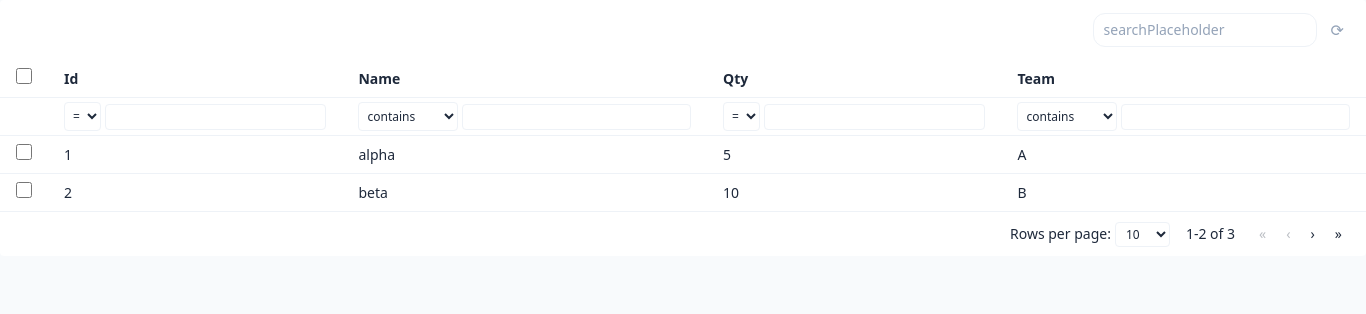
Test: Table › keeps selection and shows an alert when a custom bulk action rejects
Click the checkbox named "Select row 1". click: {"x": 24, "y": 152}
box: top-left (16, 144), bottom-right (32, 160)
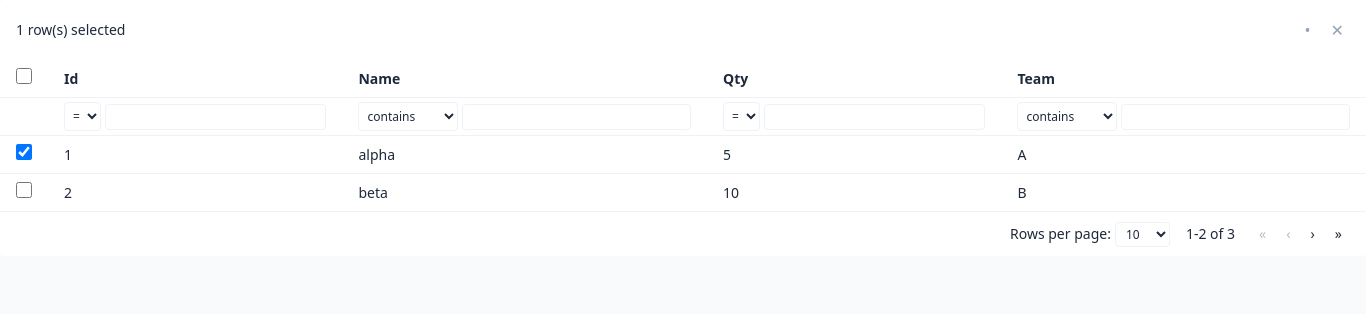
Click the button titled "custom bulk". click: {"x": 1308, "y": 30}
box: top-left (1299, 12), bottom-right (1317, 48)
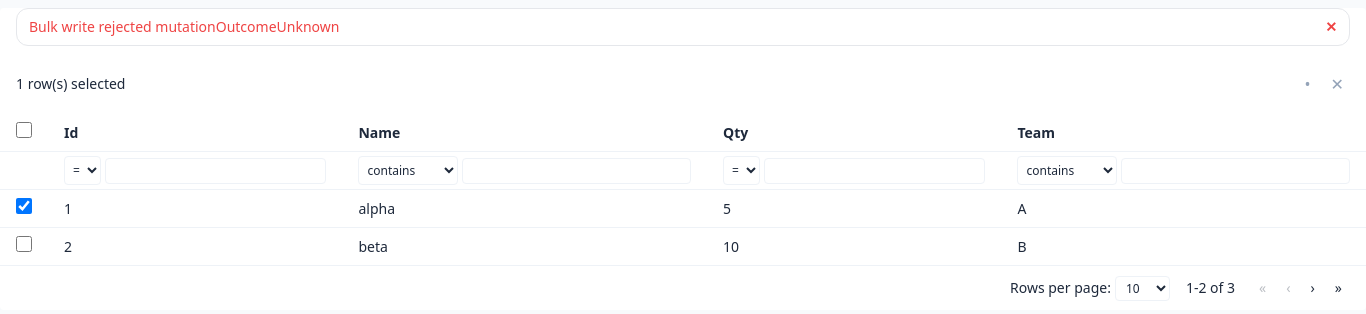
Check: the checkbox named "Select row 1" is checked, box top-left (16, 198), bottom-right (32, 214)
Check: the message shows "Bulk write rejected", box top-left (29, 17), bottom-right (339, 36)
